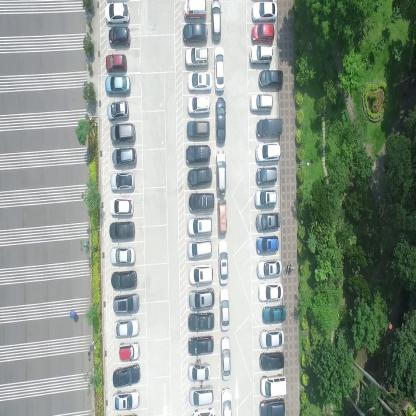car: (112, 362, 141, 389), (112, 292, 140, 315), (112, 389, 140, 412), (188, 285, 214, 309), (184, 164, 212, 186), (186, 333, 214, 355), (188, 262, 212, 287), (213, 44, 225, 92), (111, 145, 136, 168), (259, 325, 284, 348), (110, 122, 136, 144), (110, 245, 136, 267), (113, 317, 139, 339), (186, 238, 212, 260), (186, 215, 212, 237), (188, 309, 214, 331), (260, 374, 286, 396), (256, 117, 283, 138), (220, 334, 232, 381), (218, 285, 230, 331), (184, 46, 209, 68), (186, 70, 211, 92), (256, 256, 281, 278), (258, 349, 284, 370), (188, 384, 214, 405), (110, 270, 137, 290), (106, 99, 129, 122), (215, 95, 226, 143), (109, 195, 134, 216), (256, 141, 281, 162), (104, 2, 130, 22), (105, 76, 131, 96), (188, 191, 214, 211), (258, 69, 284, 89), (109, 220, 135, 240), (215, 147, 226, 194), (252, 0, 276, 21), (250, 22, 274, 43), (262, 302, 286, 323), (250, 44, 274, 65), (110, 171, 135, 191), (187, 361, 212, 381), (217, 238, 228, 283), (185, 144, 211, 163), (186, 95, 209, 116), (250, 92, 273, 113), (256, 210, 280, 230), (182, 23, 207, 42), (257, 281, 282, 300), (182, 0, 207, 19), (259, 398, 285, 416), (186, 119, 209, 139), (108, 26, 131, 46), (257, 234, 280, 254), (104, 54, 128, 72), (119, 340, 140, 360), (254, 188, 277, 206), (211, 1, 221, 41), (256, 166, 278, 184), (221, 386, 233, 416), (217, 198, 226, 235), (190, 405, 216, 415)
